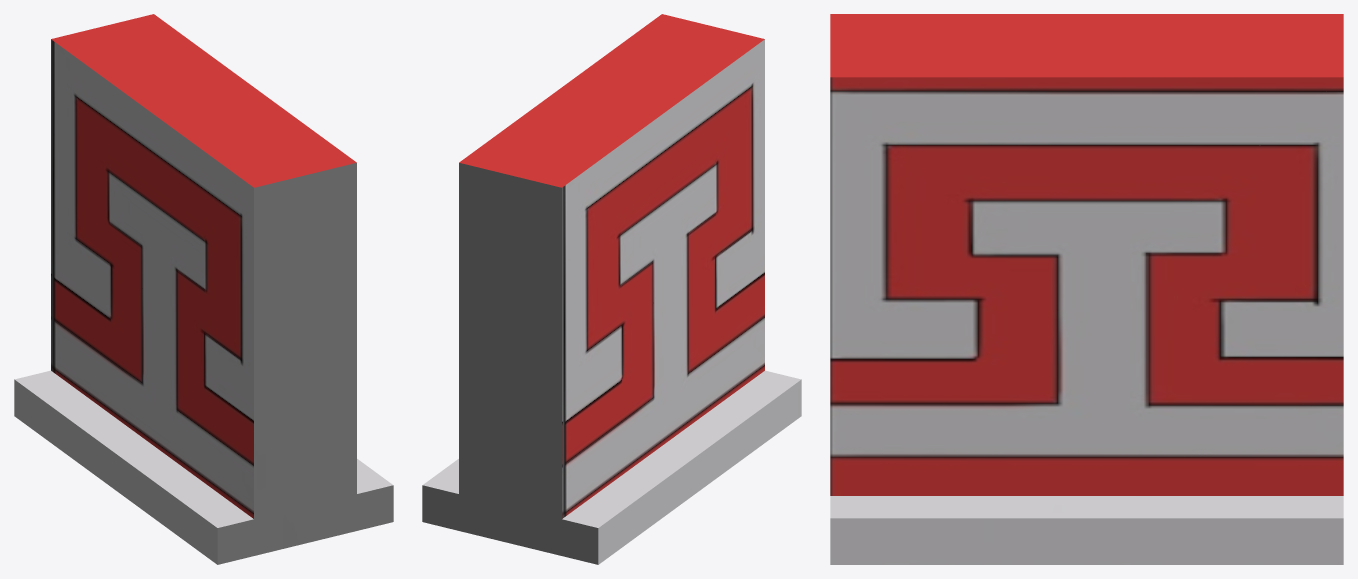
File: SM_MurettoBasso.fbx
The picture shows the model from 3 angles, left to right: view 1: azimuth 30°, elevation 25°; view 2: azimuth 150°, elevation 25°; view 3: azimuth 270°, elevation 25°; orthographic projection. The views are drawn at different scales.
Visible parts, largest first — view 1: polySurface39; view 2: polySurface39; view 3: polySurface39.
Part boxes in pixels (<box>): polySurface39: <box>14,14,393,564</box>; polySurface39: <box>422,14,801,564</box>; polySurface39: <box>830,14,1343,564</box>.
Size of the model in its own units: 0.5 by 1 by 1.
